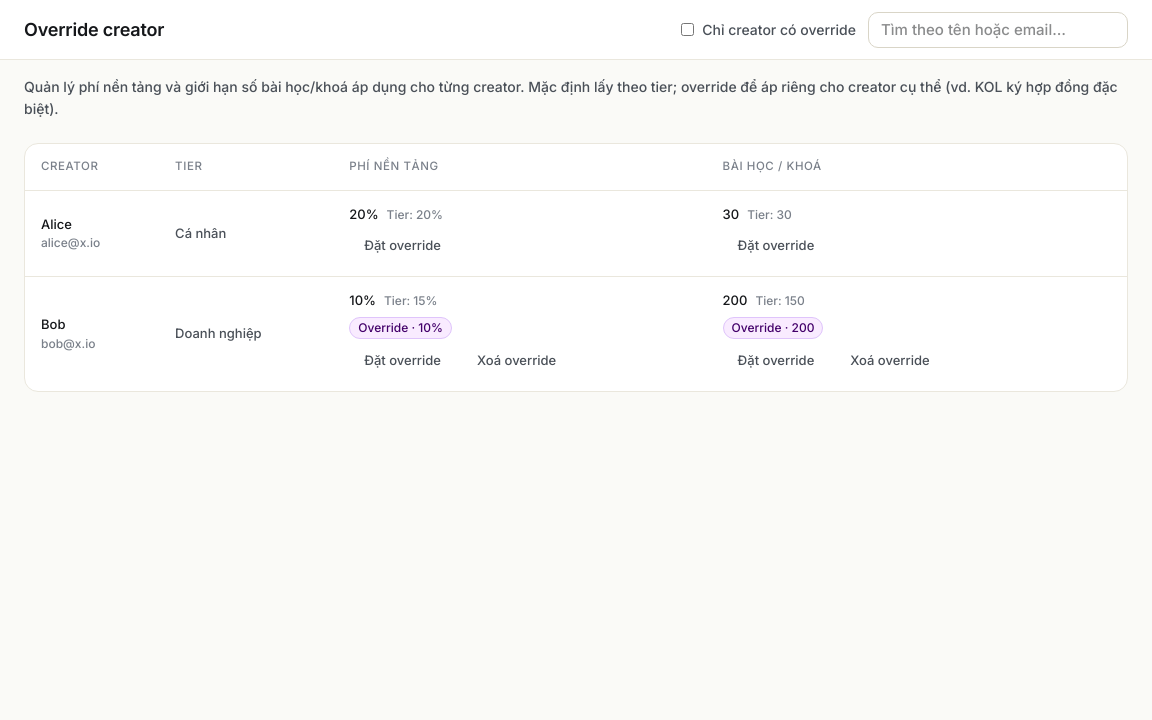
Scenario: AdminCreatorFeesPage › set override flow › opens the set-override modal when clicking Set on a row
Expected: the row with test id "creator-fees-row-u-alice" is shown, [25,190,1127,277]
Click the button with test id "set-override-btn-u-alice". click: point(403, 246)
box: [349,230,456,262]
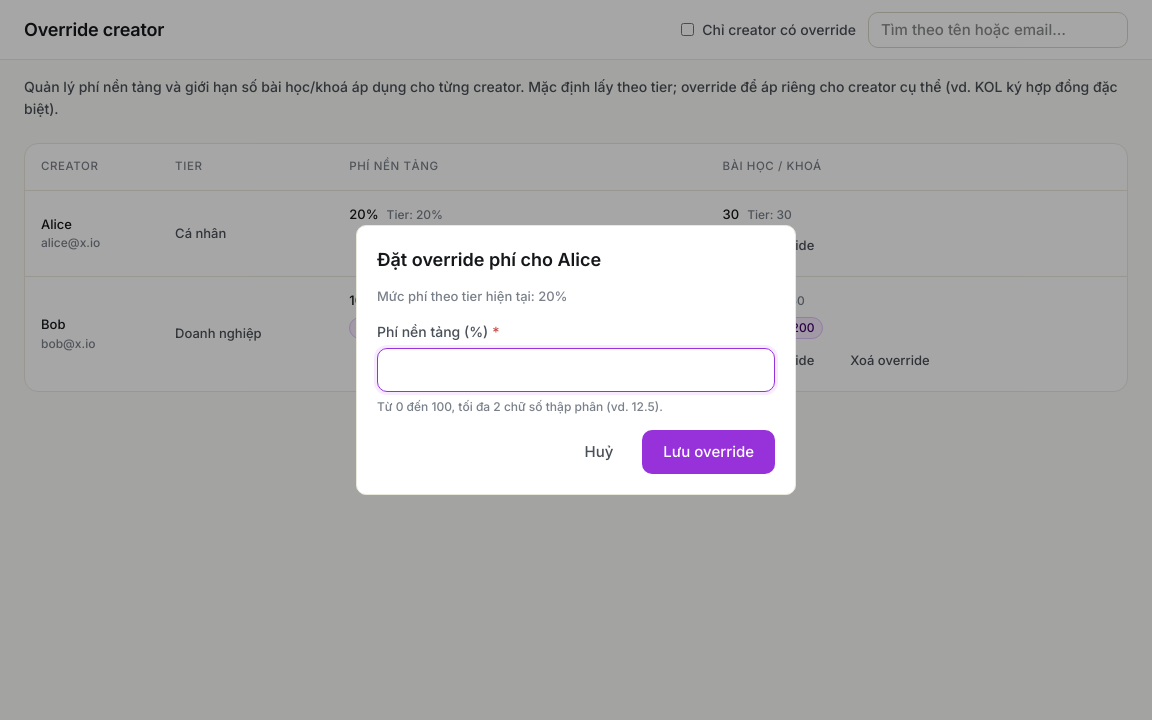
Now the dialog with test id "creator-fees-modal" is shown
Now the dialog with test id "creator-fees-modal" shows "20", box [377,288,568,304]
